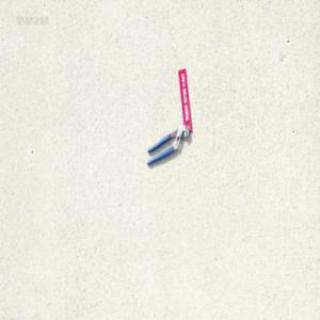LuggageTagtrack_idkeyframe: (178, 67, 192, 131)
Pliertrack_idkeyframe: (146, 123, 188, 166)
